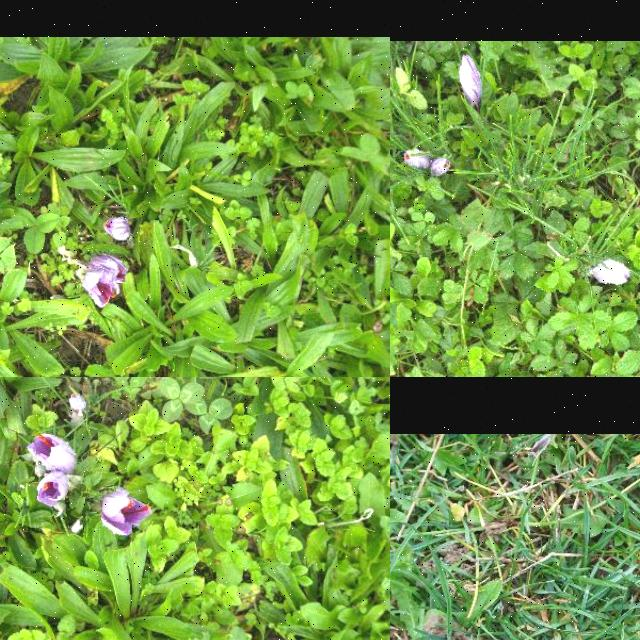flower: (101, 489, 152, 536), (27, 434, 75, 470), (459, 54, 483, 110), (37, 472, 69, 508), (590, 260, 632, 286), (103, 219, 131, 243), (404, 150, 430, 170), (430, 158, 452, 178), (68, 392, 86, 412)
overlap: (80, 258, 130, 310)
